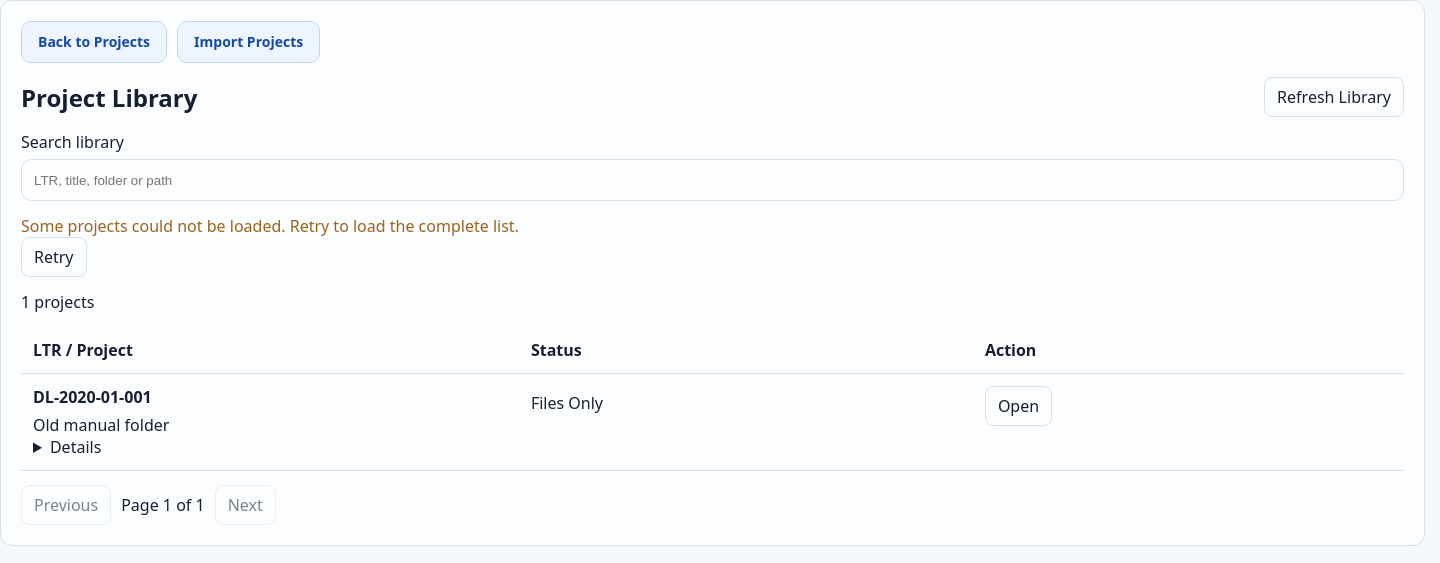
it: keeps available linked projects visible when managed records fail and supports retry
Expected: the message "Some projects could not be loaded. Retry to load the complete list." is shown, [21,215,519,237]
Expected: the button with aria-label "Open Old manual folder" is shown, [985,386,1052,426]
Step 1. Click the button "Retry" → (54, 257), box [21,237,86,277]
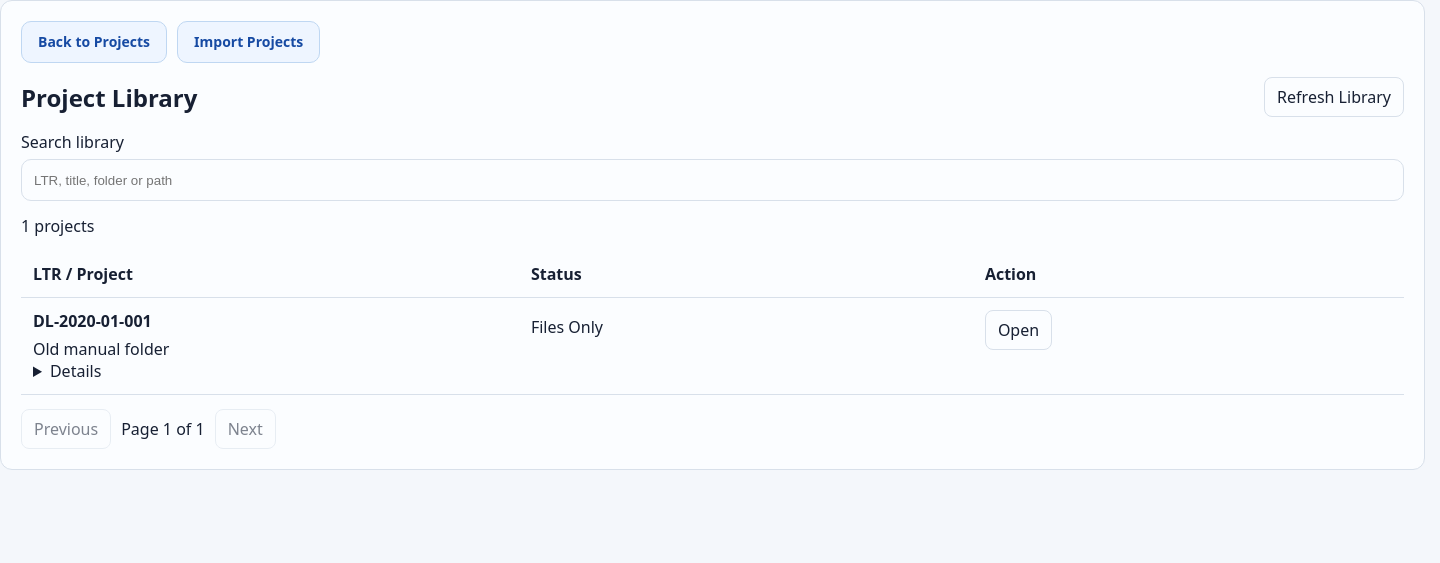
Now the message "Some projects could not be loaded. Retry to load the complete list." is gone
